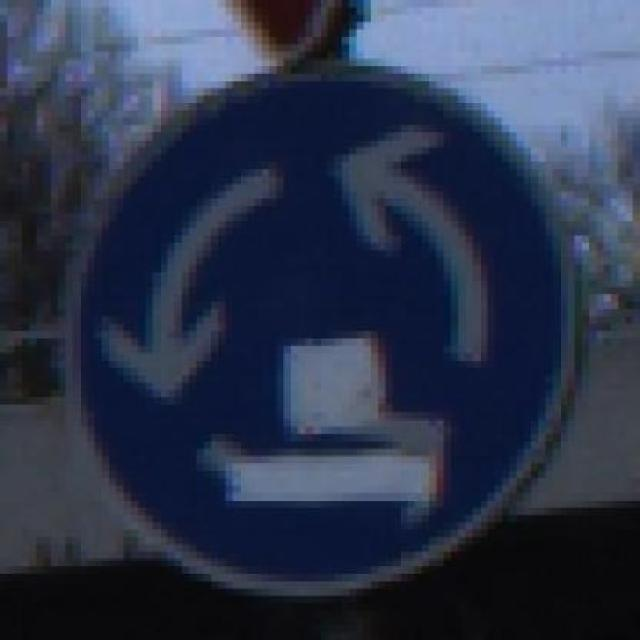Round-About: (50, 59, 604, 610)
